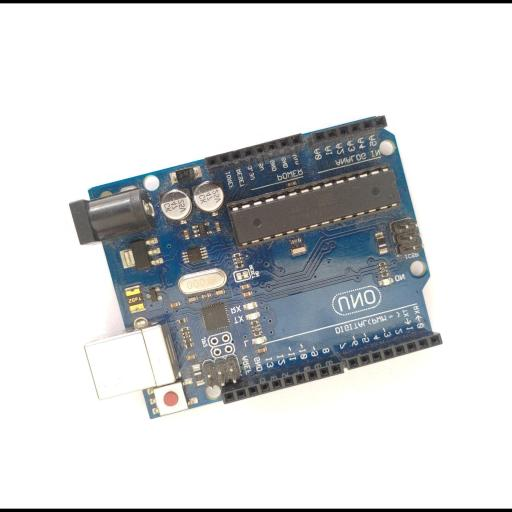Arduino Uno R3: (68, 114, 444, 419)
